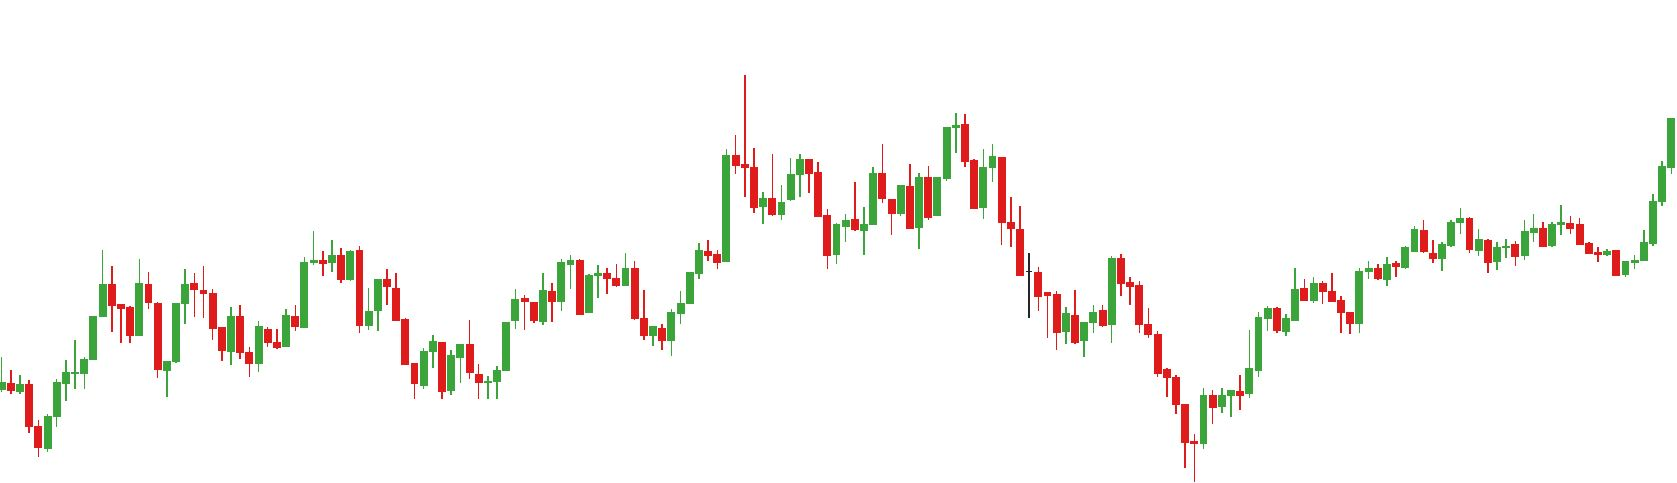buy: (79, 272, 172, 399), (536, 281, 677, 363)
sell: (200, 225, 347, 324), (877, 106, 971, 212)
